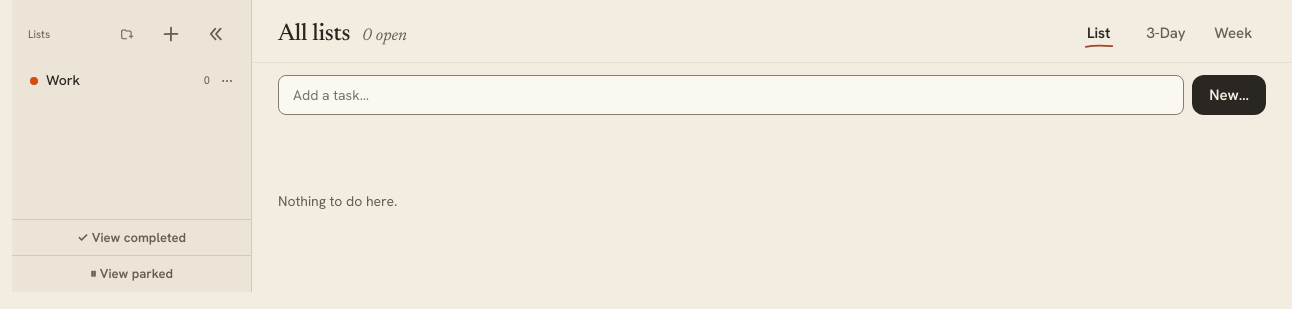
Scenario: aug19 stage 4b — the Completed pane and a RELATED-TO ring › shows a completed ring another client authored
Click the button "✓ View completed" at (132, 237), box 12,219 -> 251,255
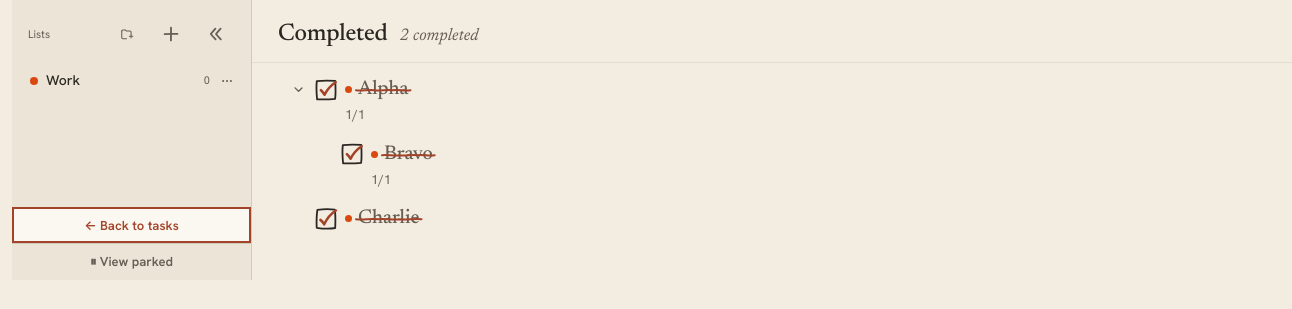
Expected: the text "Charlie" is shown, 345,206 -> 1266,231
Expected: the text "Alpha" is shown, 345,77 -> 1266,102
Expected: the text "Bravo" is shown, 371,142 -> 1266,166
